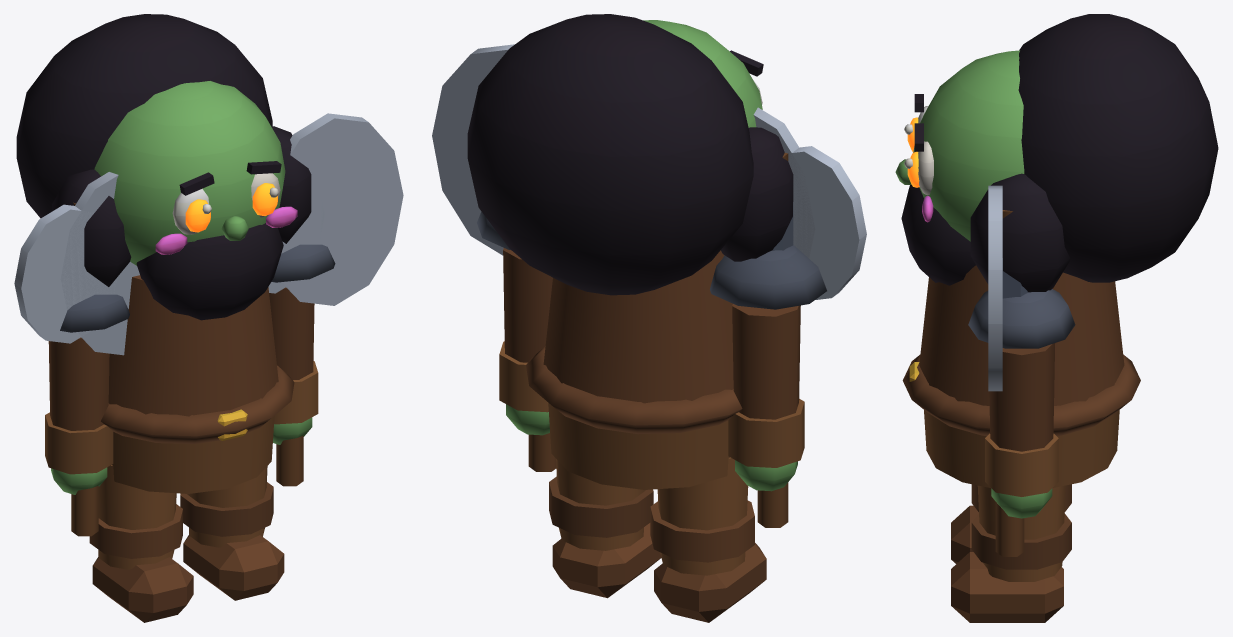
The model's file is hero_gorrak.glb.
3 views of the same model, side by side, from view 1: azimuth 30°, elevation 25°; view 2: azimuth 150°, elevation 25°; view 3: azimuth 270°, elevation 25° (orthographic). The views are drawn at different scales.
Parts seen in each view (by area): view 1: body_t0_palette, armr_t0_palette, arml_t0_palette, legl_t0_palette, legr_t0_palette, body_t0_fire; view 2: body_t0_palette, arml_t0_palette, armr_t0_palette, legl_t0_palette, legr_t0_palette; view 3: body_t0_palette, armr_t0_palette, legr_t0_palette, legl_t0_palette, body_t0_fire.
Part boxes in pixels (x1,y1,x2,y2): body_t0_palette: (16,14,311,493); armr_t0_palette: (268,113,403,486); arml_t0_palette: (14,172,139,536); legl_t0_palette: (89,465,193,622); legr_t0_palette: (180,466,284,600); body_t0_fire: (185,183,277,232); body_t0_palette: (467,14,793,489); arml_t0_palette: (710,107,866,527); armr_t0_palette: (432,44,556,471); legl_t0_palette: (650,457,766,622); legr_t0_palette: (549,459,661,598); body_t0_palette: (895,14,1218,487); armr_t0_palette: (968,185,1075,556); legr_t0_palette: (951,485,1071,622); legl_t0_palette: (951,484,1071,563); body_t0_fire: (907,117,919,187).
Size of the model in its own units: 0.388 by 0.522 by 0.271.
